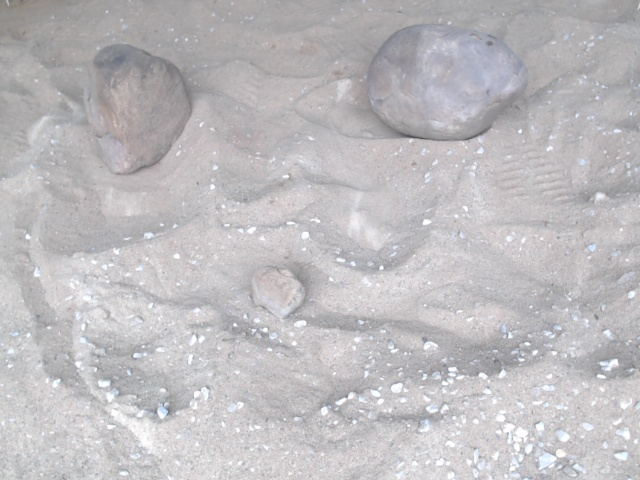rock: (361, 18, 531, 145), (79, 40, 196, 180), (246, 264, 309, 323)
